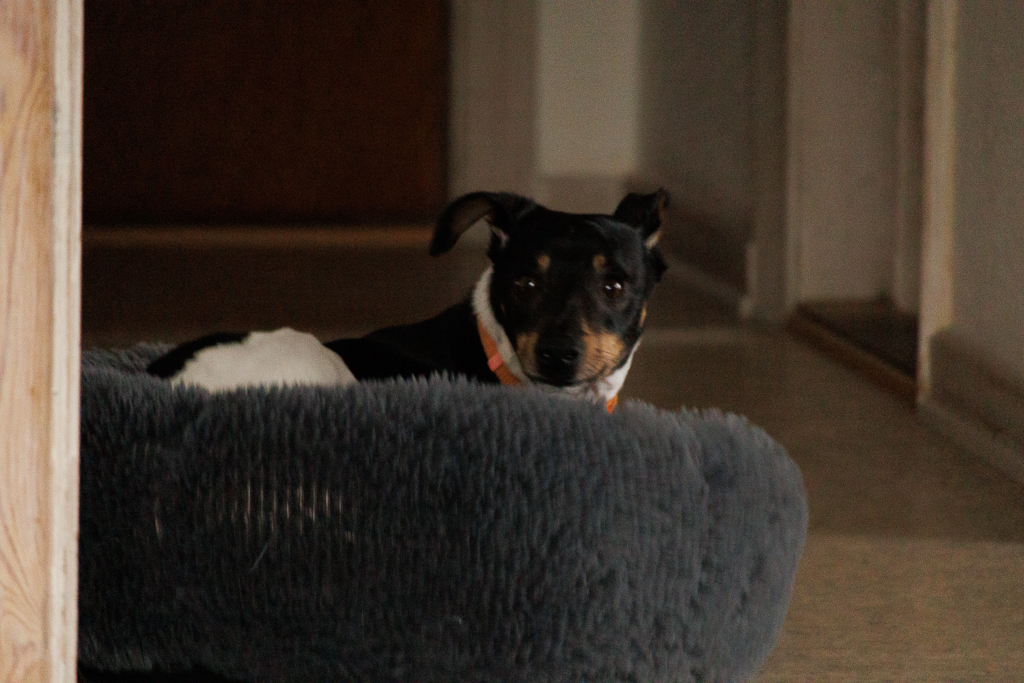Dog: (127, 175, 692, 423)
